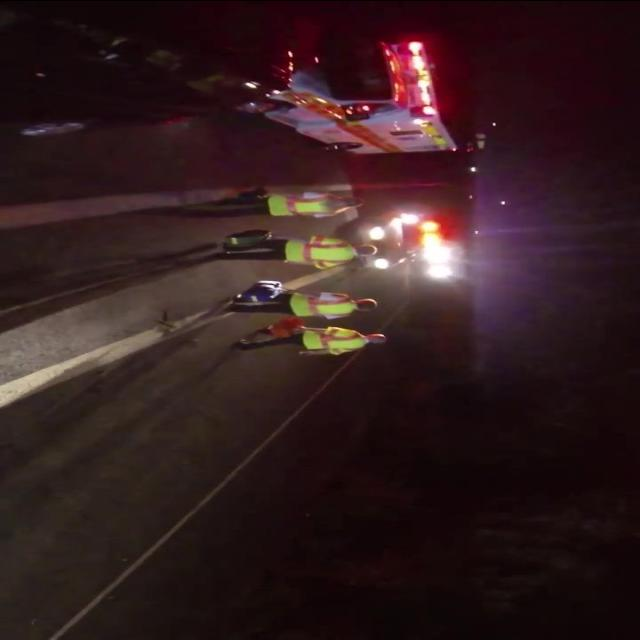jacket: (284, 232, 360, 272), (286, 287, 361, 322), (270, 188, 336, 222), (296, 324, 366, 354)
